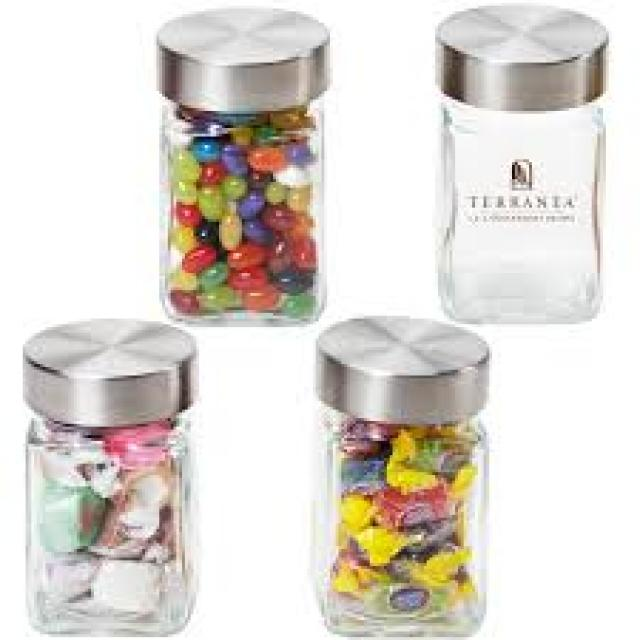organic waste: (85, 467, 162, 546), (80, 546, 168, 615), (37, 480, 108, 558), (31, 549, 97, 609), (97, 424, 179, 466), (34, 441, 111, 483), (94, 521, 171, 563), (190, 185, 224, 227), (270, 259, 310, 293), (216, 259, 270, 284), (213, 211, 245, 253), (188, 216, 225, 250), (279, 210, 310, 248), (270, 284, 310, 310), (208, 170, 250, 193), (176, 199, 208, 228), (248, 142, 288, 165), (162, 114, 191, 145), (196, 284, 239, 304), (270, 162, 307, 185), (239, 276, 276, 299), (222, 136, 247, 170), (168, 265, 202, 290), (265, 105, 307, 125), (267, 239, 296, 267), (196, 262, 236, 282), (225, 117, 256, 142), (176, 244, 214, 264), (191, 105, 219, 131), (253, 179, 285, 199), (193, 259, 225, 279), (193, 154, 222, 176), (171, 284, 196, 308), (284, 134, 310, 156), (188, 136, 219, 154), (239, 168, 270, 185), (222, 244, 259, 258), (282, 185, 304, 208), (168, 154, 199, 170), (174, 174, 196, 196), (216, 170, 242, 188), (262, 205, 293, 219), (174, 224, 194, 242), (239, 197, 262, 210)
